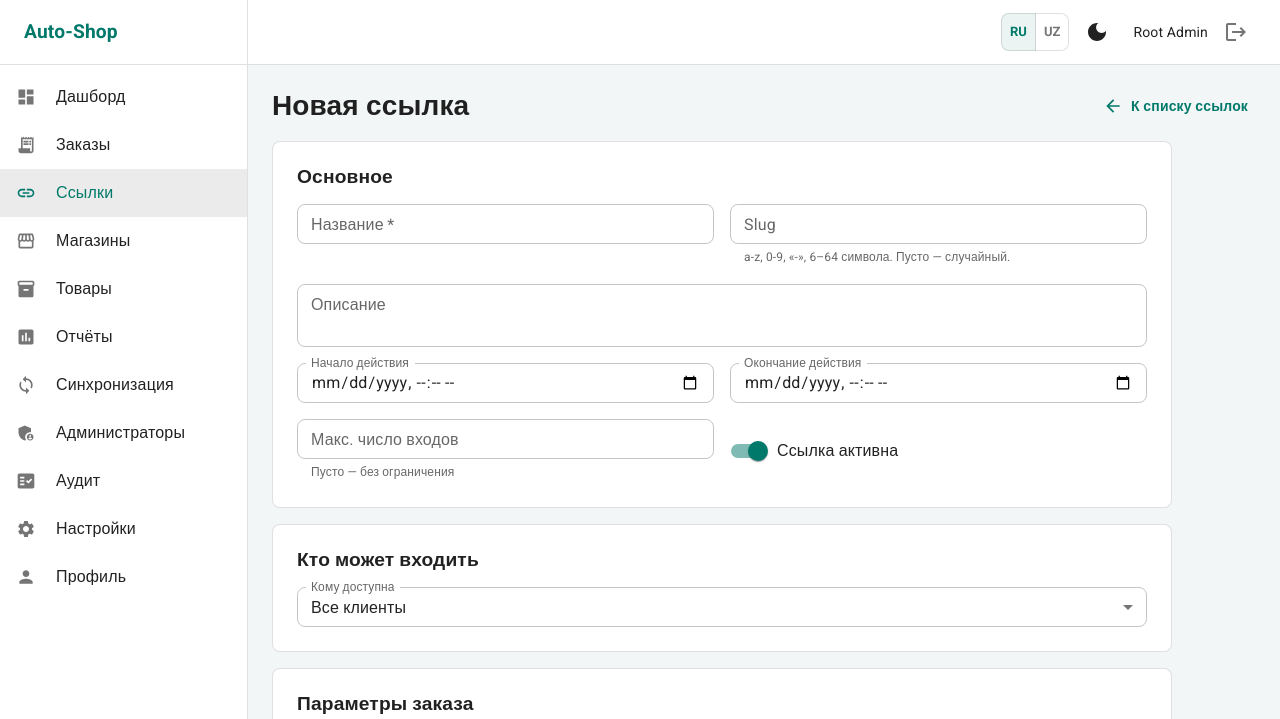
link form validation › requires scope values for territory scope
Type "Scoped" into the field labelled "Название *". click: (506, 224)
box: [297,204,714,244]
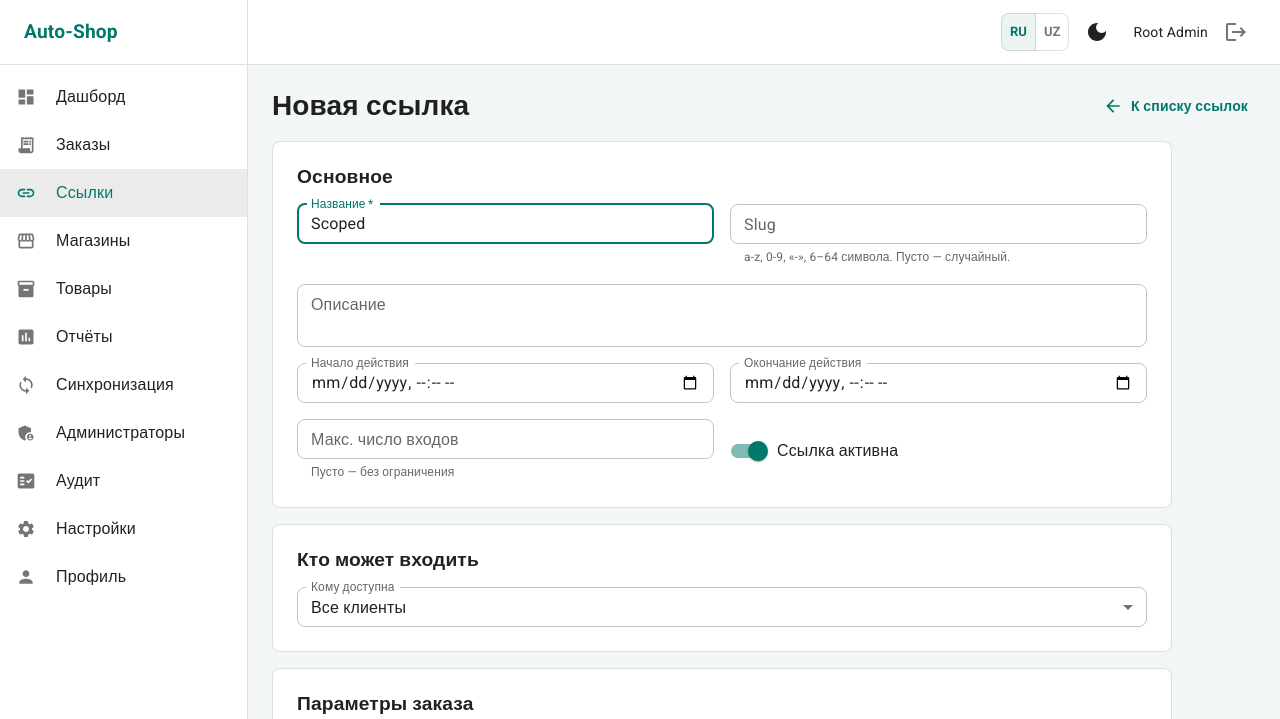
Click the dropdown named "Кому доступна". click: (359, 607)
box: [311,598,406,617]
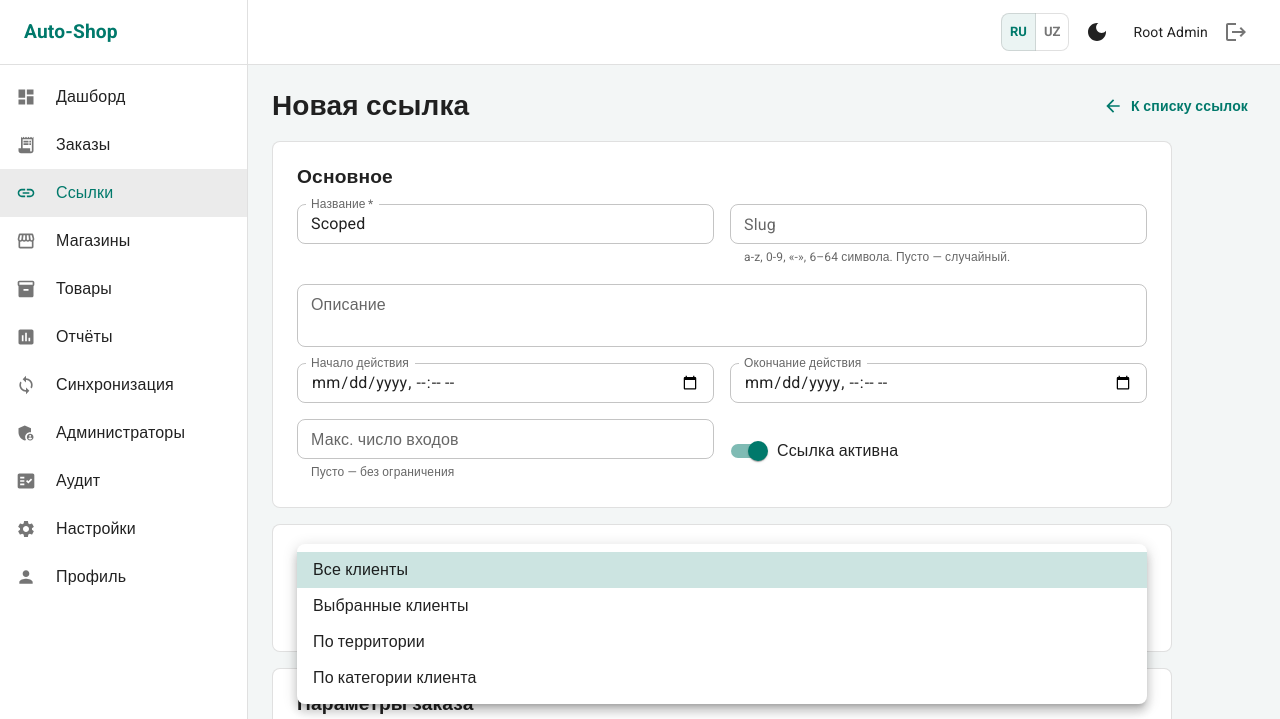
Click the option "По территории". click: (369, 642)
box: [313,632,425,651]
(page scrolled)
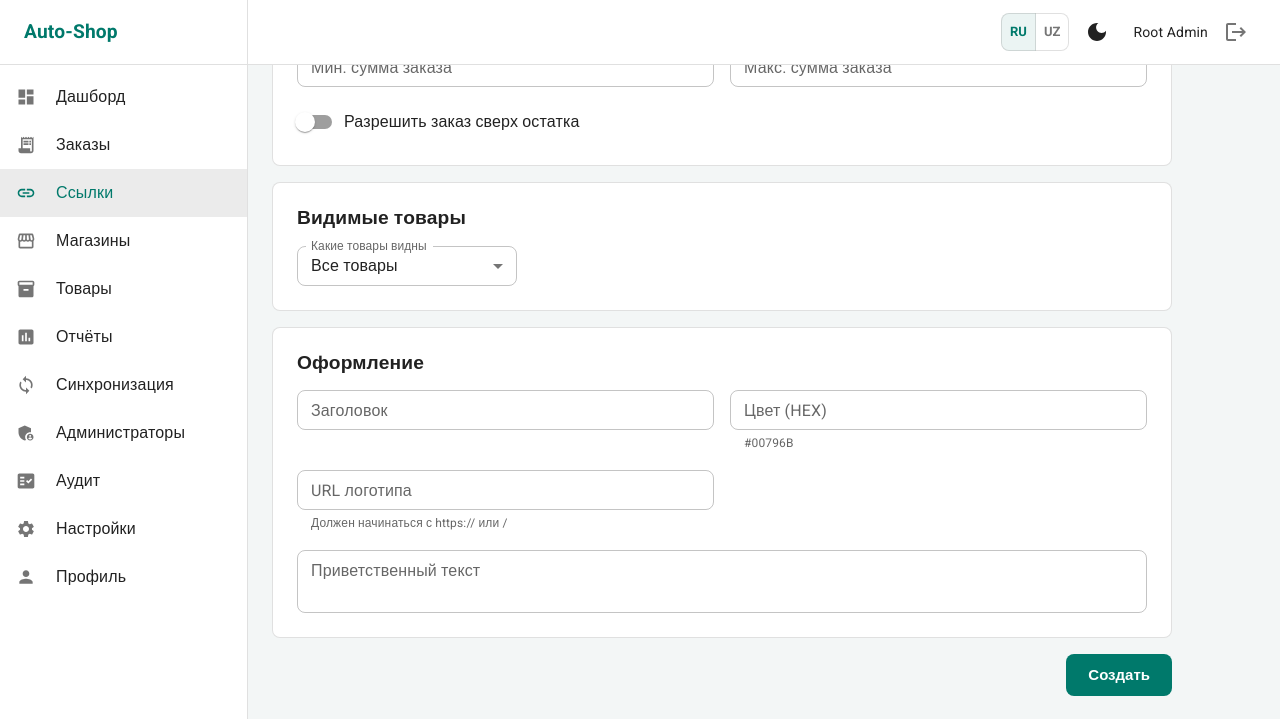
Click the button "Создать". click: (1119, 675)
box: [1066,654,1172,696]
(page scrolled)
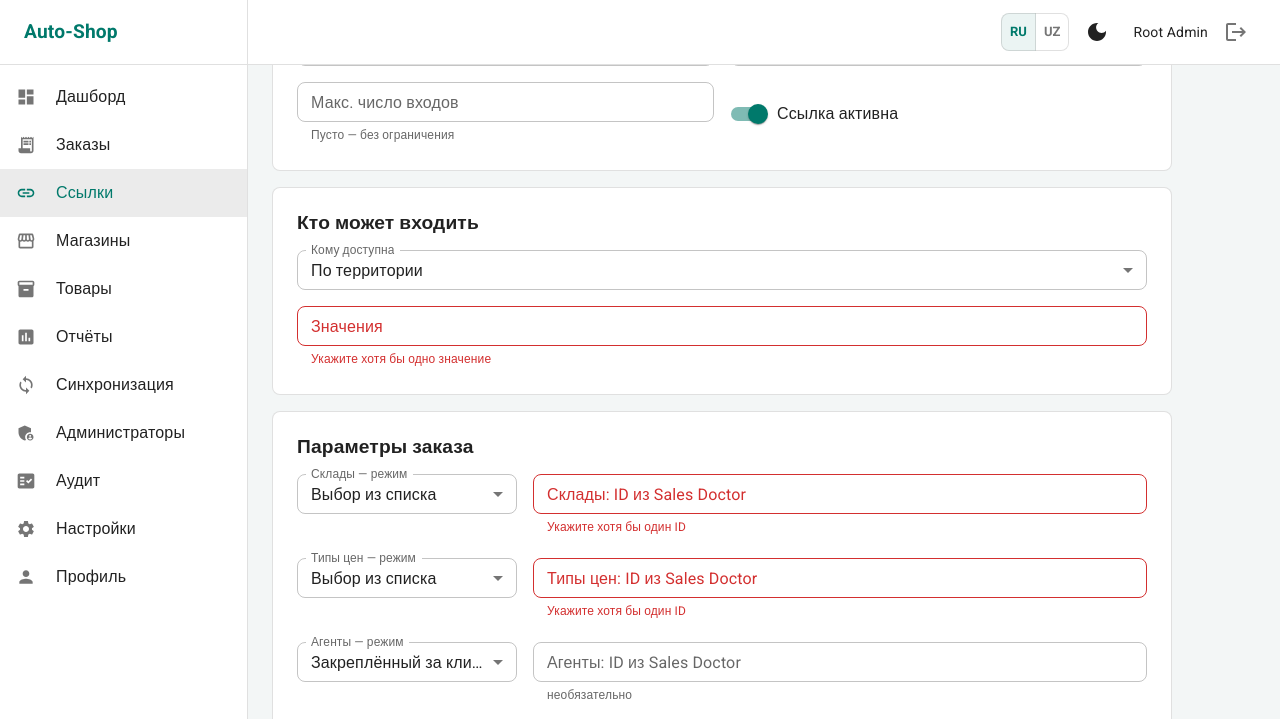
Check: the text "Укажите хотя бы одно значение" is shown, box [311,352,491,366]
